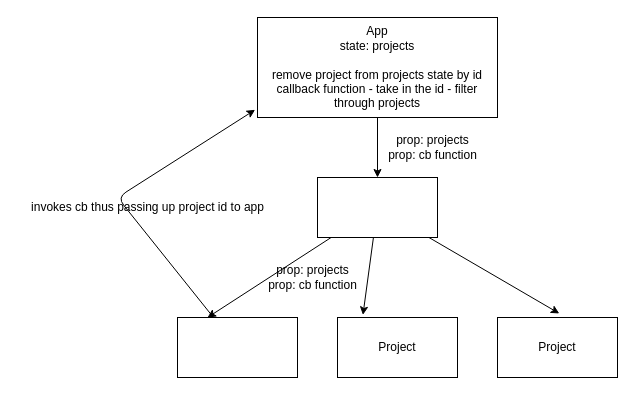
Some shapes in this 635 by 395 pixel diagram are drawn without their labels. Here are the shapes that lost their labels. From the top down, the box of each, then its label:
(316, 176, 438, 238): ProjectList
(176, 316, 298, 378): Project onClicks: delete
